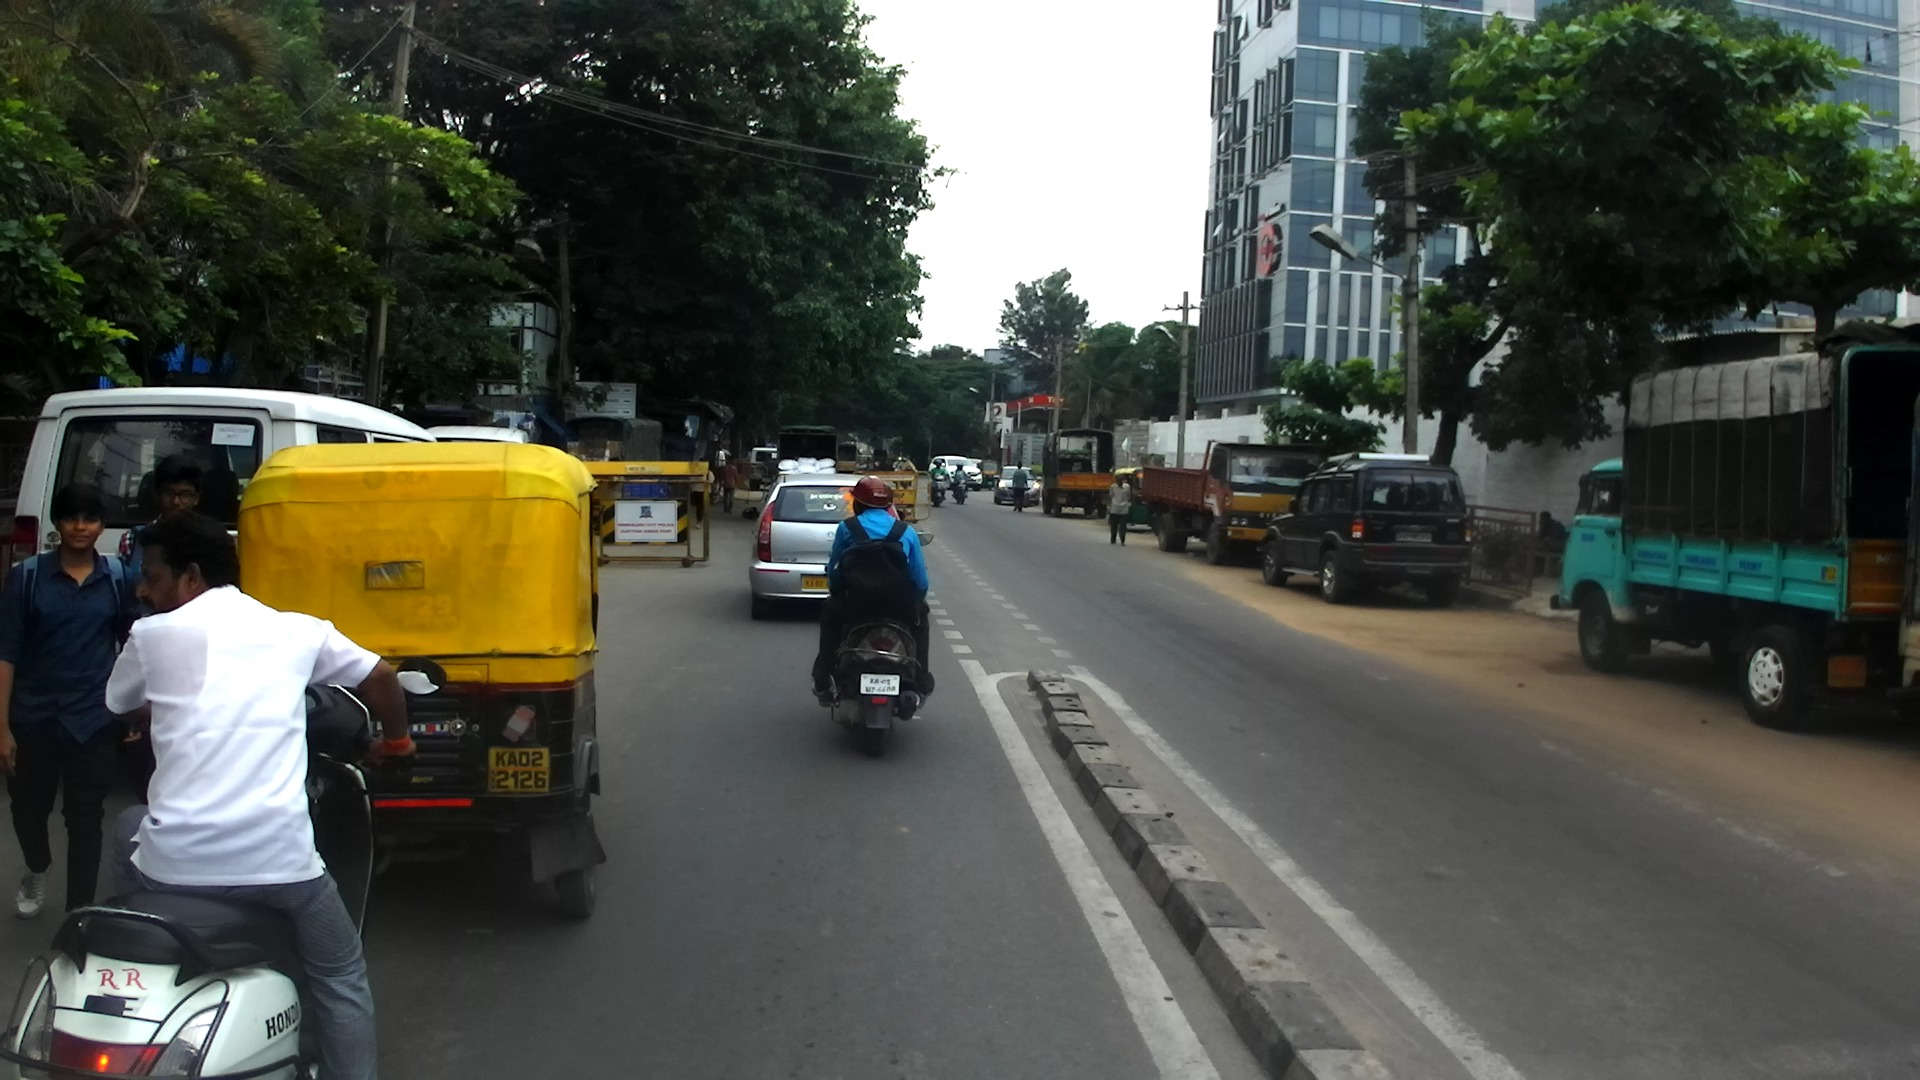autorickshaw: (231, 441, 609, 920), (1113, 465, 1176, 533), (975, 460, 1003, 492)
car: (5, 386, 438, 783), (1256, 451, 1472, 607), (742, 471, 906, 620), (425, 425, 531, 462), (991, 466, 1043, 506), (927, 456, 984, 492), (748, 445, 779, 489), (970, 458, 988, 474), (967, 458, 987, 468)
motorcycle: (1, 656, 446, 1080), (809, 524, 938, 760), (946, 473, 972, 507), (927, 472, 950, 508), (710, 475, 724, 504), (892, 472, 913, 491)
person: (1, 484, 137, 919), (116, 453, 212, 780), (1103, 474, 1135, 549), (692, 457, 715, 528), (1534, 511, 1567, 552), (720, 456, 741, 515), (1010, 461, 1030, 512), (715, 448, 726, 468)
rider: (101, 512, 413, 1080), (810, 474, 936, 715), (927, 458, 950, 501), (951, 462, 971, 499), (899, 456, 917, 476), (893, 457, 904, 473), (861, 455, 872, 472)
truck: (1549, 325, 1920, 731), (1140, 440, 1338, 565), (1891, 431, 1920, 743), (564, 413, 662, 474), (774, 425, 839, 499), (835, 444, 857, 475)
vehicle fallback: (869, 448, 890, 472)
